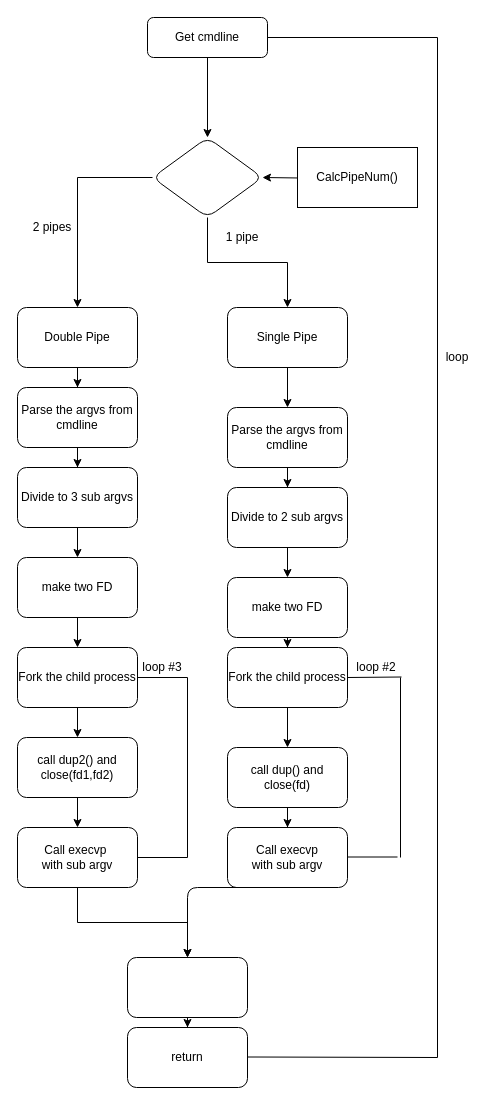
The diagram is 495 pixels wide and 1105 high, and some of its shapes have lost their labels. The shapes that lost their labels are listed below. From the top down, each one's centre as x and y in pixels, then its label:
At pixel 207 177: "Check the #pipe".
At pixel 187 987: "Close all fd(s)".
